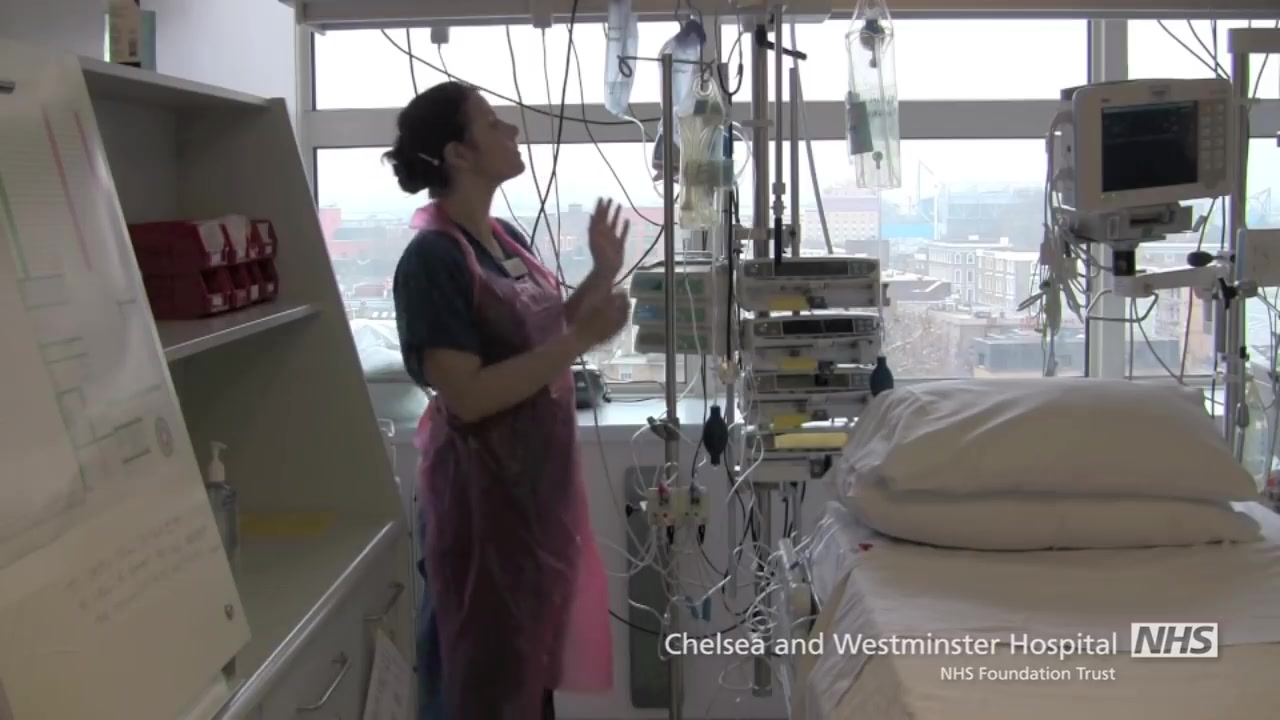bedrail: (774, 535, 813, 720)
bedside_monitor: (1072, 78, 1237, 211)
dispenser: (203, 439, 239, 567)
handle: (301, 651, 354, 709), (365, 578, 408, 622)
hospital_bed: (777, 378, 1280, 720)
iv_pole: (616, 52, 743, 720), (766, 1, 791, 260)
staff: (385, 82, 632, 720)
syringe_pump: (735, 373, 888, 433), (734, 252, 886, 312), (732, 316, 885, 375), (627, 271, 730, 304), (626, 298, 728, 331), (630, 330, 731, 362)
